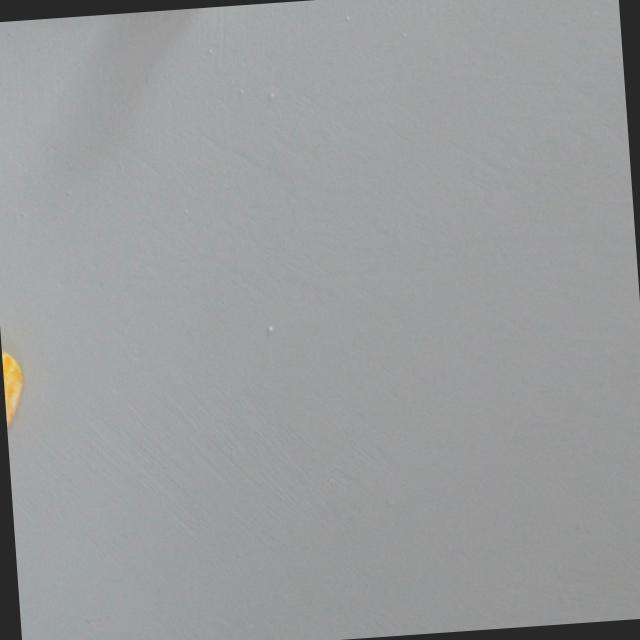pelicula: (0, 334, 29, 439)
